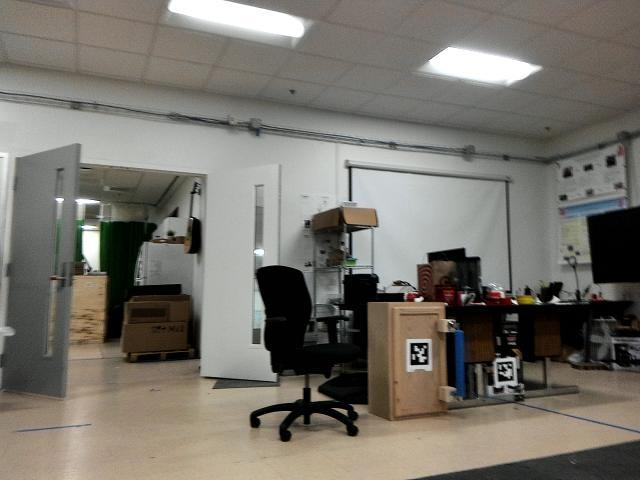noodle_handle: (450, 327, 469, 400)
